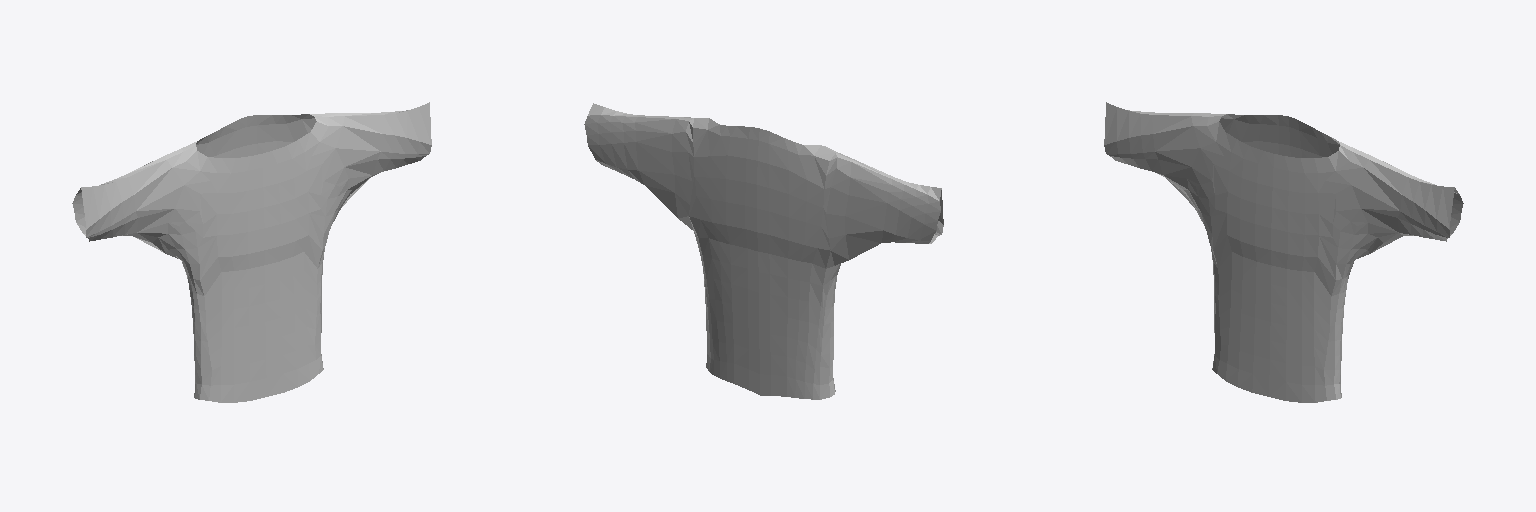
Rendered from tshirt_0.obj.
The picture shows the model from 3 angles: view 1: azimuth 30°, elevation 25°; view 2: azimuth 150°, elevation 25°; view 3: azimuth 330°, elevation 25°; orthographic projection.
Parts seen in each view (by area): view 1: tshirt_base_Plane.002_tshirt_base_Plane.007; view 2: tshirt_base_Plane.002_tshirt_base_Plane.007; view 3: tshirt_base_Plane.002_tshirt_base_Plane.007.
Part boxes in pixels (x1,y1,x2,y2): tshirt_base_Plane.002_tshirt_base_Plane.007: (72,102,431,402); tshirt_base_Plane.002_tshirt_base_Plane.007: (584,103,943,399); tshirt_base_Plane.002_tshirt_base_Plane.007: (1104,102,1463,402).
Bounding box in the file's own units: 1.57 × 1.12 × 0.1668.